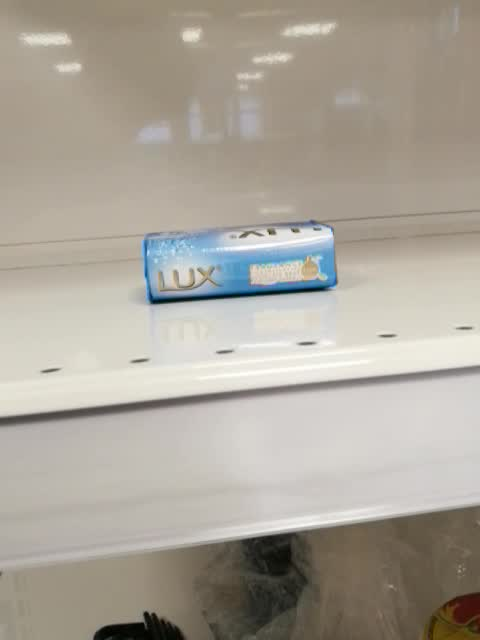soap: (142, 221, 340, 305)
